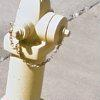Hydrant: (7, 4, 76, 100)
